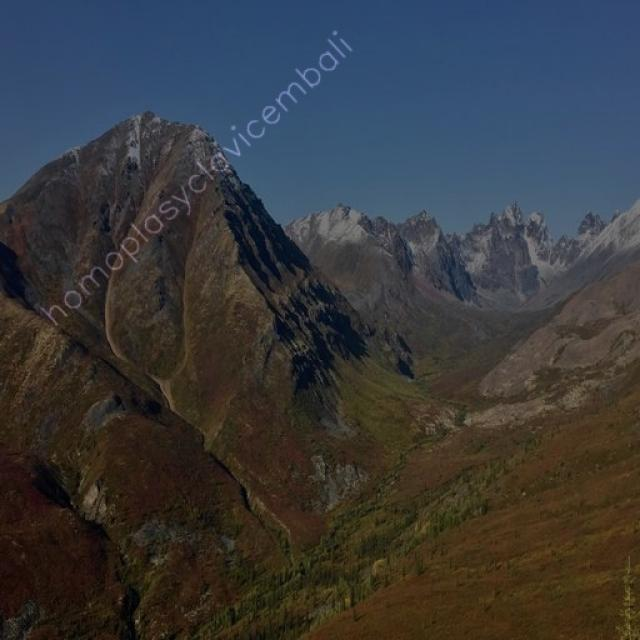watermark: (45, 20, 354, 334)
